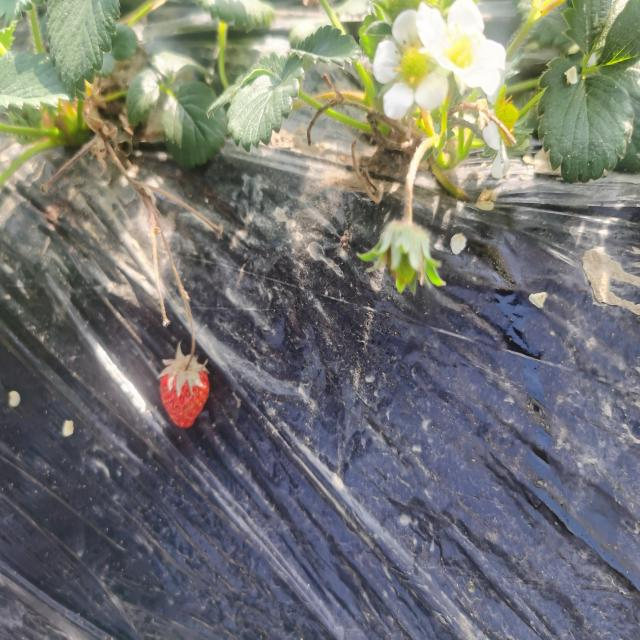stem: (184, 332, 195, 371)
strawberry: (160, 356, 210, 427)
